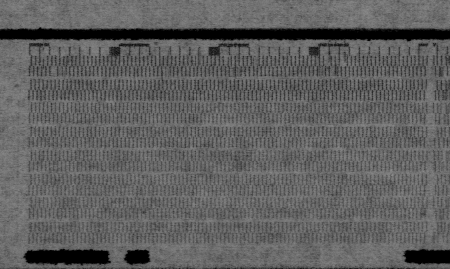Broken hole: (48, 65, 60, 77)
Oblique printing: (432, 54, 450, 248), (321, 53, 352, 79), (222, 54, 245, 80), (155, 54, 172, 81), (250, 53, 263, 79), (38, 55, 51, 71)
